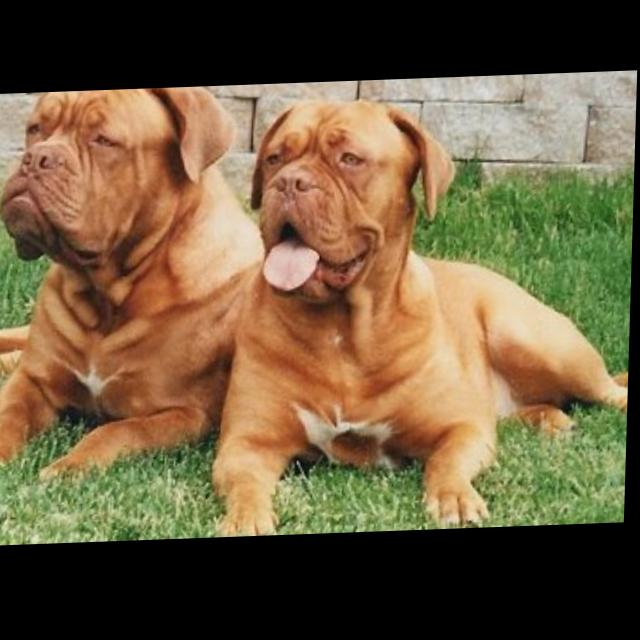dogue_de_bordeaux: (213, 92, 638, 541), (1, 88, 273, 487)
